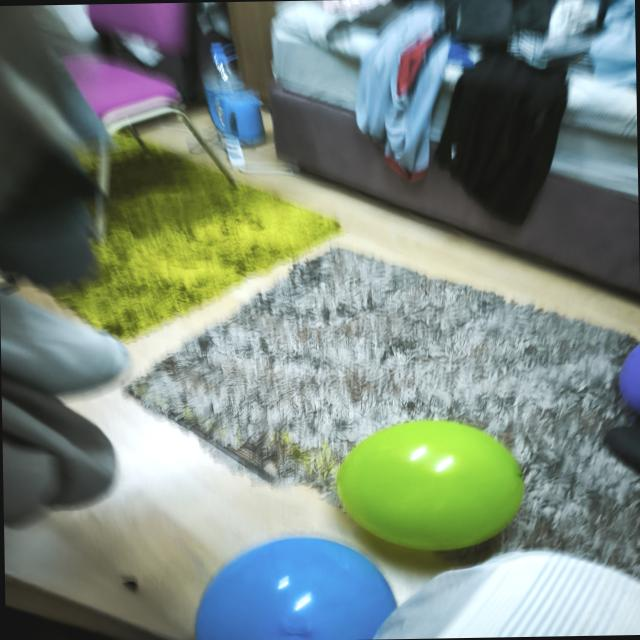balloon: (336, 420, 523, 550), (195, 537, 396, 640), (619, 343, 640, 415)
